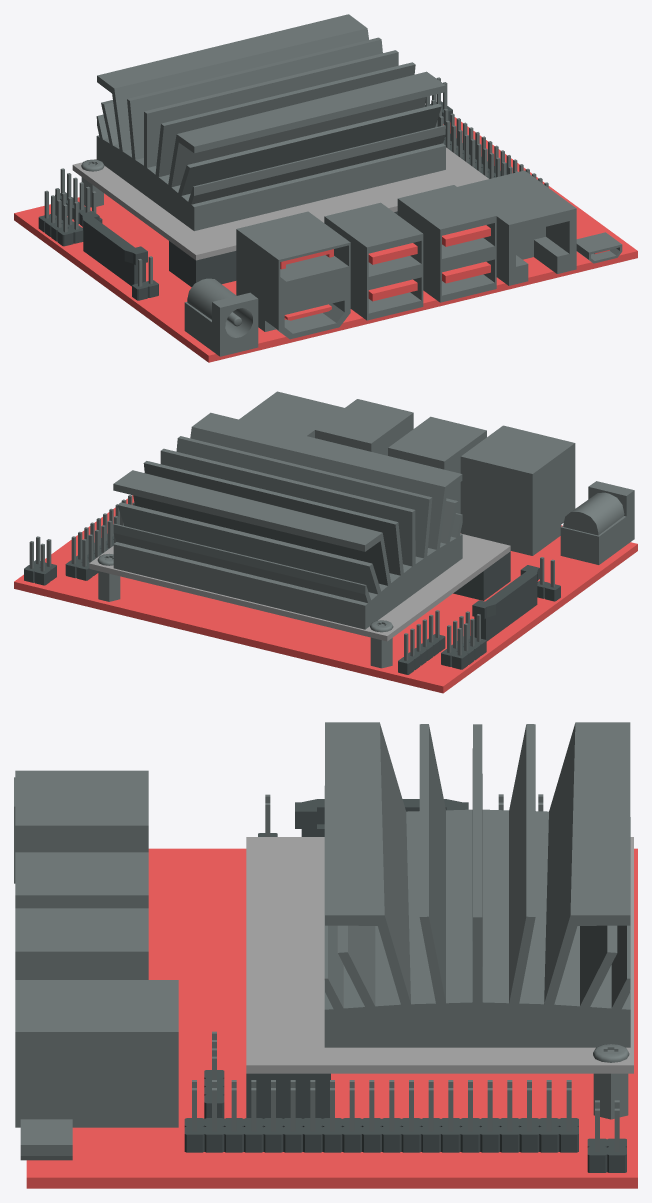
The model's file is NANO.glb.
3 renders of one model, top to bottom at view 1: azimuth 30°, elevation 25°; view 2: azimuth 150°, elevation 25°; view 3: azimuth 270°, elevation 25°, orthographic. The views are drawn at different scales.
Visible parts, largest first — view 1: board, teamColor; view 2: board, teamColor; view 3: board, teamColor.
Part boxes in pixels (box(x1,y1,x2,y2)): board: box(38, 14, 622, 356); teamColor: box(14, 117, 637, 362); board: box(24, 391, 634, 674); teamColor: box(14, 495, 637, 693); board: box(14, 722, 633, 1172); teamColor: box(26, 848, 637, 1188).
Bounding box in the file's own units: 0.1002 × 0.0289 × 0.0804.
Materials: 2 (1 with a texture image).
